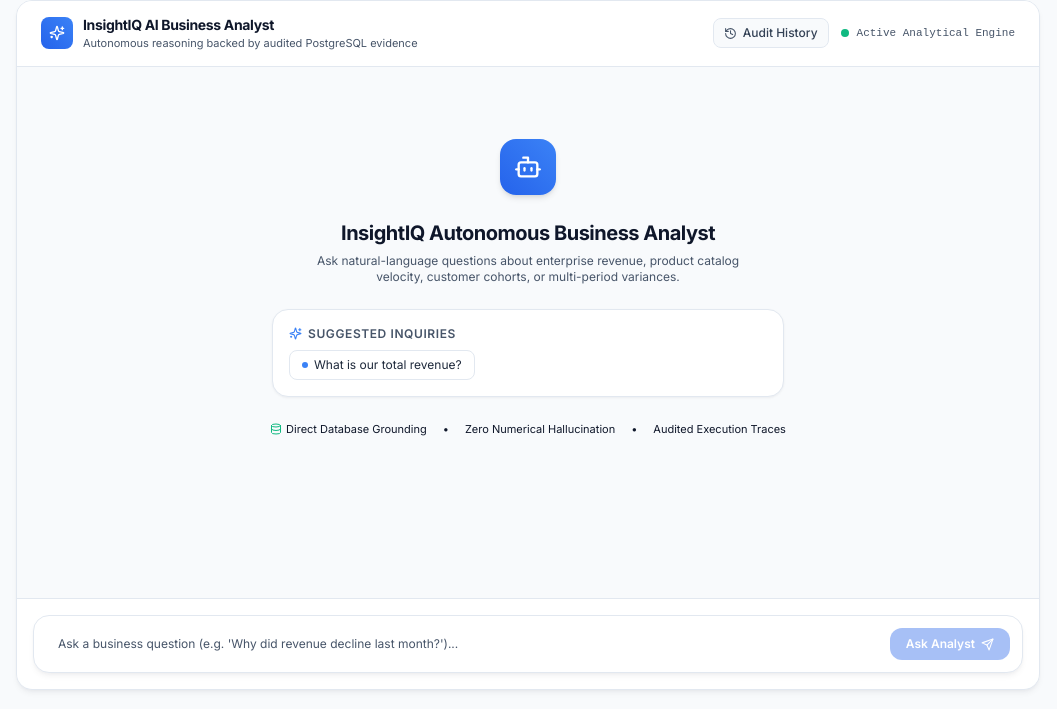
Frontend Resilience, Error States, and Edge Case Tests › displays prominent error message when Analyst Chat API fails
This screenshot has width=1057, height=709.
Replace the text in the field with placeholder "Ask a business question" with "Why did revenue drop?" at [464, 644], box left=46, top=628, right=882, bottom=660
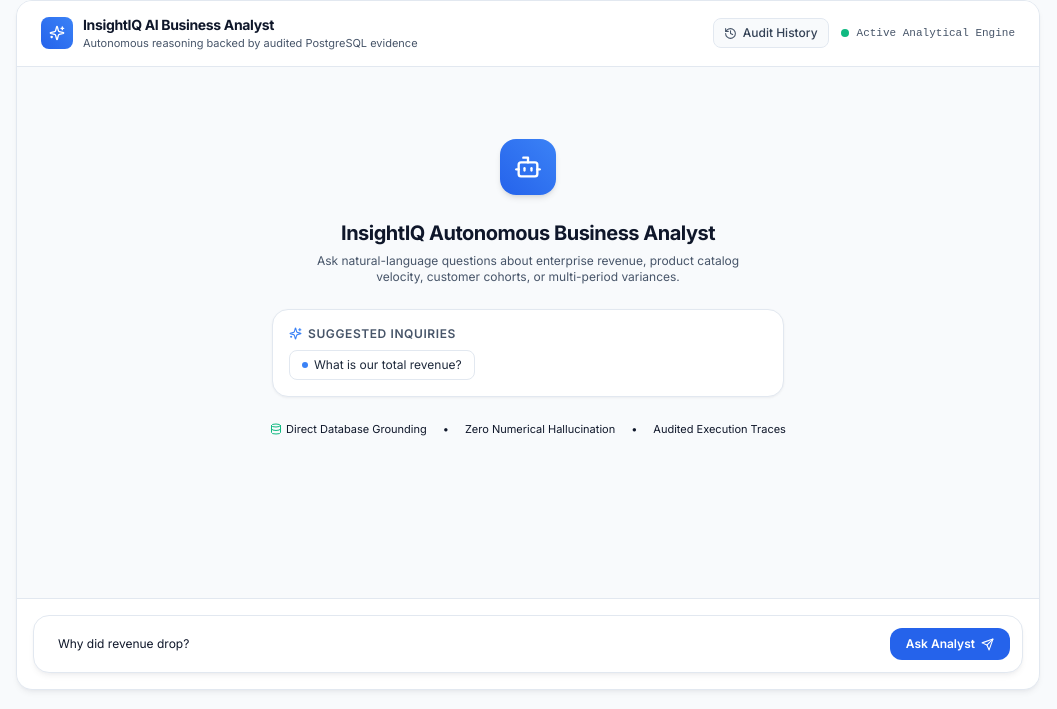
Click the button with aria-label "Send inquiry".
click(950, 644)  # box left=890, top=628, right=1010, bottom=660
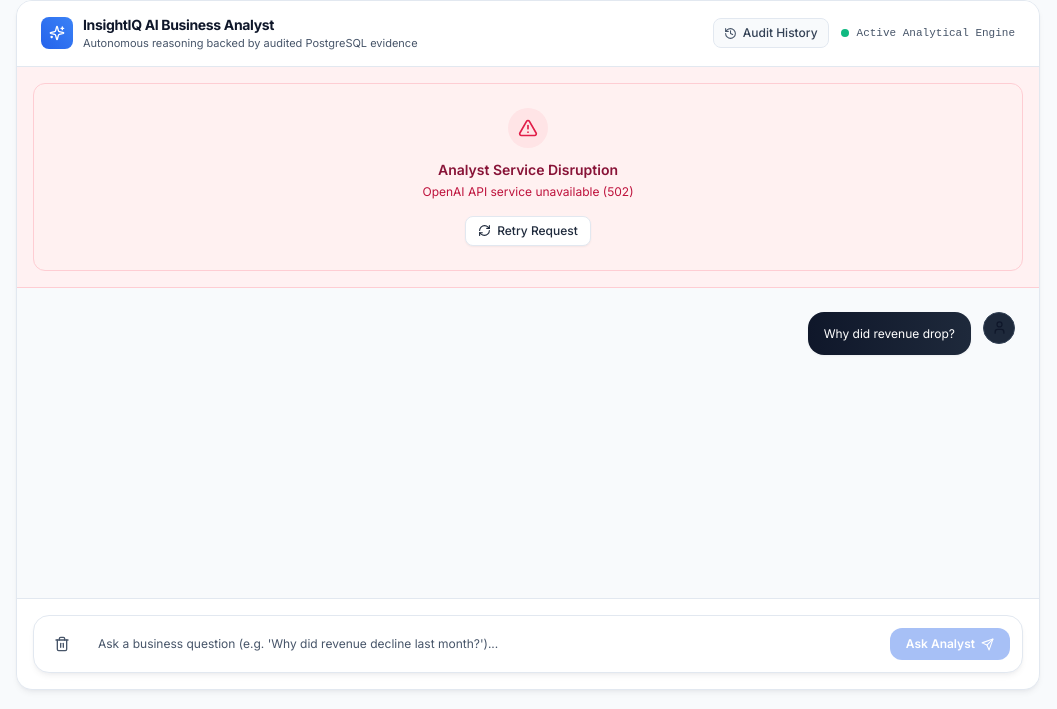
Expected: the field with placeholder "Ask a business question" is enabled, left=86, top=628, right=882, bottom=660
Result: the heading "Analyst Service Disruption" is shown at left=438, top=160, right=618, bottom=180
Result: the text "OpenAI API service unavailable (502)" is shown at left=422, top=184, right=634, bottom=200
